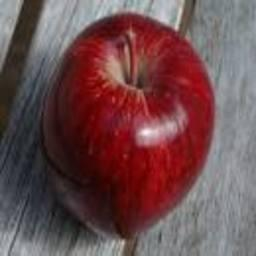apple: (32, 12, 216, 240)
